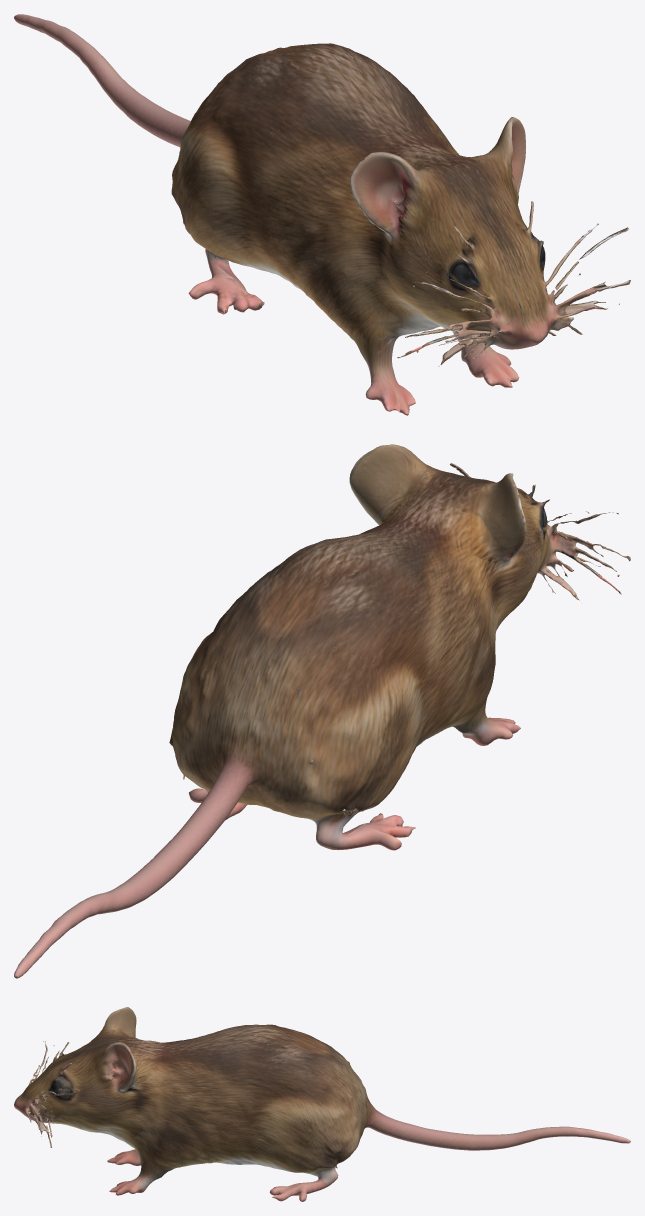
File: mouse.glb
The picture shows the model from 3 angles, top to bottom: view 1: azimuth 30°, elevation 25°; view 2: azimuth 150°, elevation 25°; view 3: azimuth 270°, elevation 25°; orthographic projection. The views are drawn at different scales.
Size of the model in its own units: 0.4928 by 0.5282 by 1.92.
Materials: 1 (1 with a texture image).
